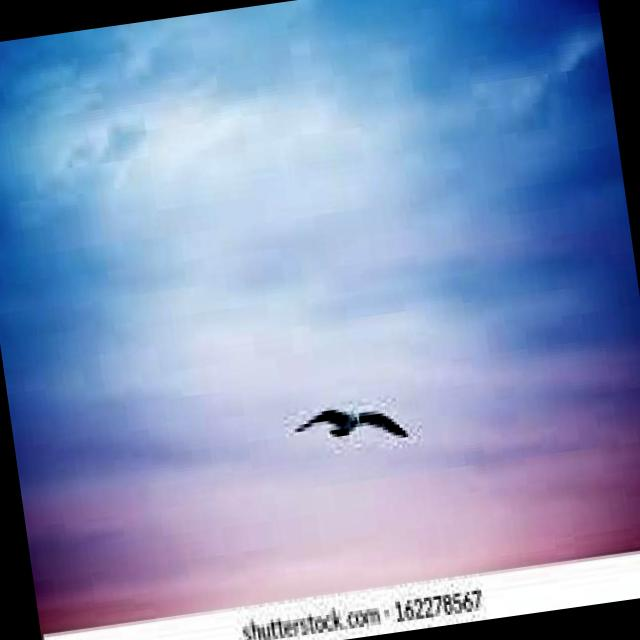bird: (290, 396, 409, 464)
